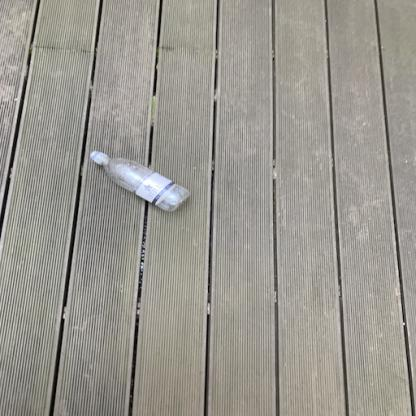trash: (90, 151, 195, 215)
